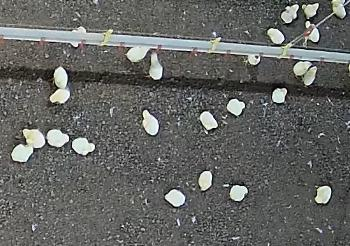chick: (162, 187, 187, 209), (140, 109, 160, 136), (21, 129, 46, 149), (147, 52, 164, 81), (199, 109, 220, 132), (50, 66, 69, 89), (226, 98, 247, 118), (11, 143, 33, 162), (47, 129, 69, 148), (228, 183, 250, 202), (313, 185, 334, 204), (48, 89, 71, 106), (72, 137, 95, 154), (126, 46, 150, 62), (292, 59, 311, 79), (301, 66, 319, 87), (197, 170, 213, 193), (281, 4, 299, 23), (266, 27, 285, 44), (306, 20, 320, 43), (330, 0, 346, 20), (301, 3, 320, 19), (271, 87, 287, 105), (243, 54, 261, 65)
